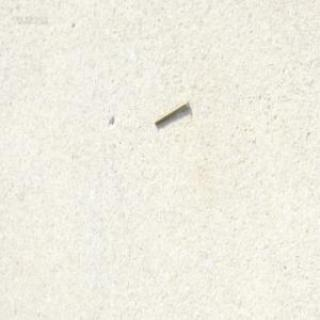Bolttrack_idkeyframe: (152, 97, 188, 125)
